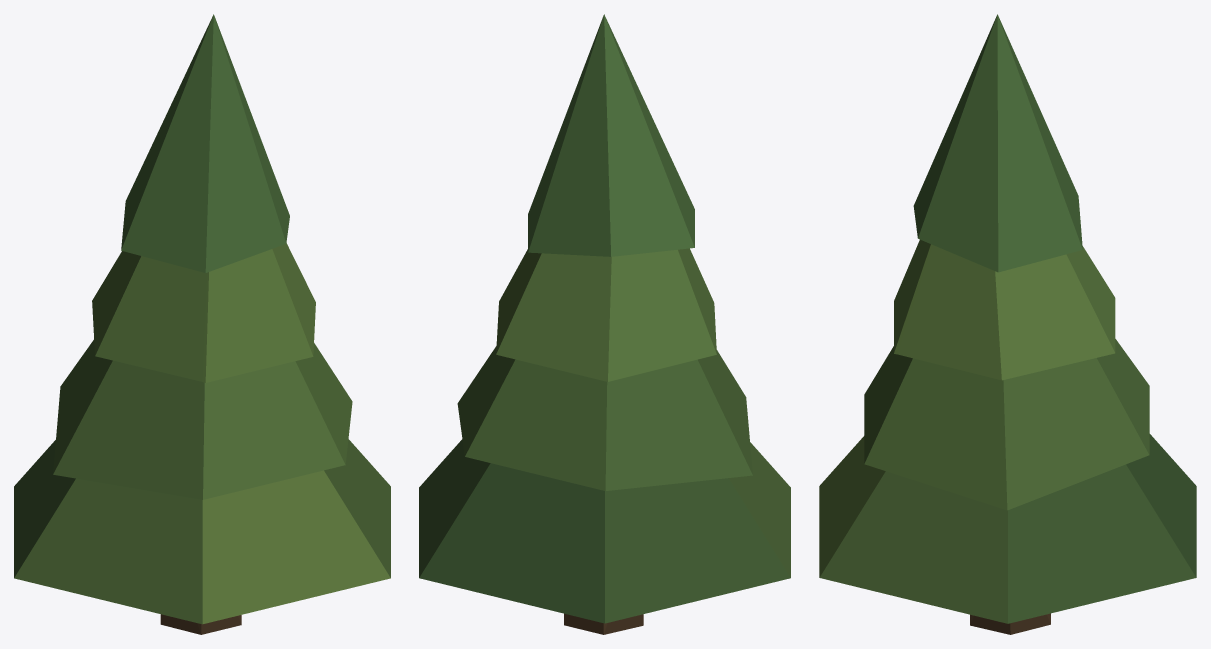
File: Prop_Tree_Pine_2.glb
3 renders of one model, left to right at view 1: azimuth 30°, elevation 25°; view 2: azimuth 150°, elevation 25°; view 3: azimuth 270°, elevation 25°, orthographic.
Parts seen in each view (by area): view 1: Prop_Tree_Pine_2_Merged; view 2: Prop_Tree_Pine_2_Merged; view 3: Prop_Tree_Pine_2_Merged.
Part boxes in pixels (x1,y1,x2,y2): Prop_Tree_Pine_2_Merged: [14, 14, 390, 634]; Prop_Tree_Pine_2_Merged: [419, 14, 790, 634]; Prop_Tree_Pine_2_Merged: [819, 14, 1196, 634].
Size of the model in its own units: 2.6 by 3.98 by 2.25.
